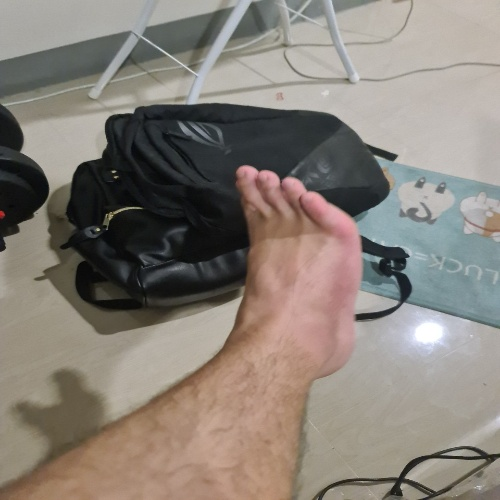4: (320, 316, 357, 373)
Top_Foot: (235, 165, 361, 376)
